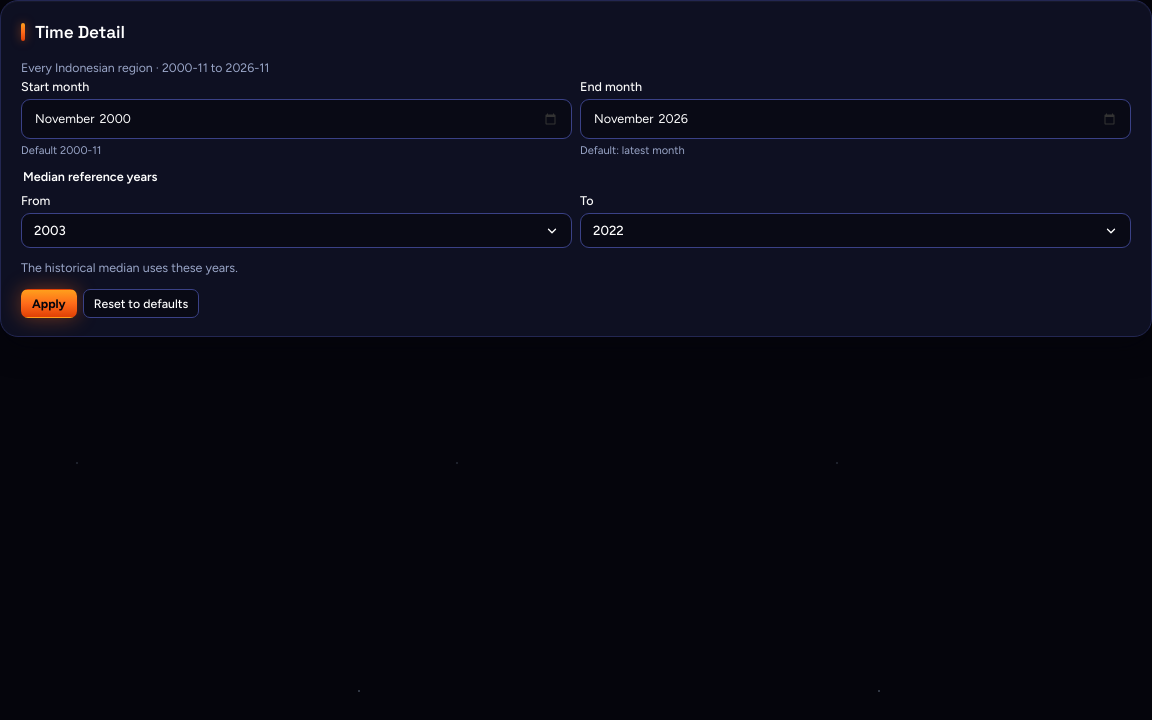
Scenario: TimePanel › rejects an invalid range with a clear message
This screenshot has width=1152, height=720.
Replace the text in the field labelled "Start month" with "1998-05" at (296, 119), box x1=21 y1=99 x2=572 y2=139
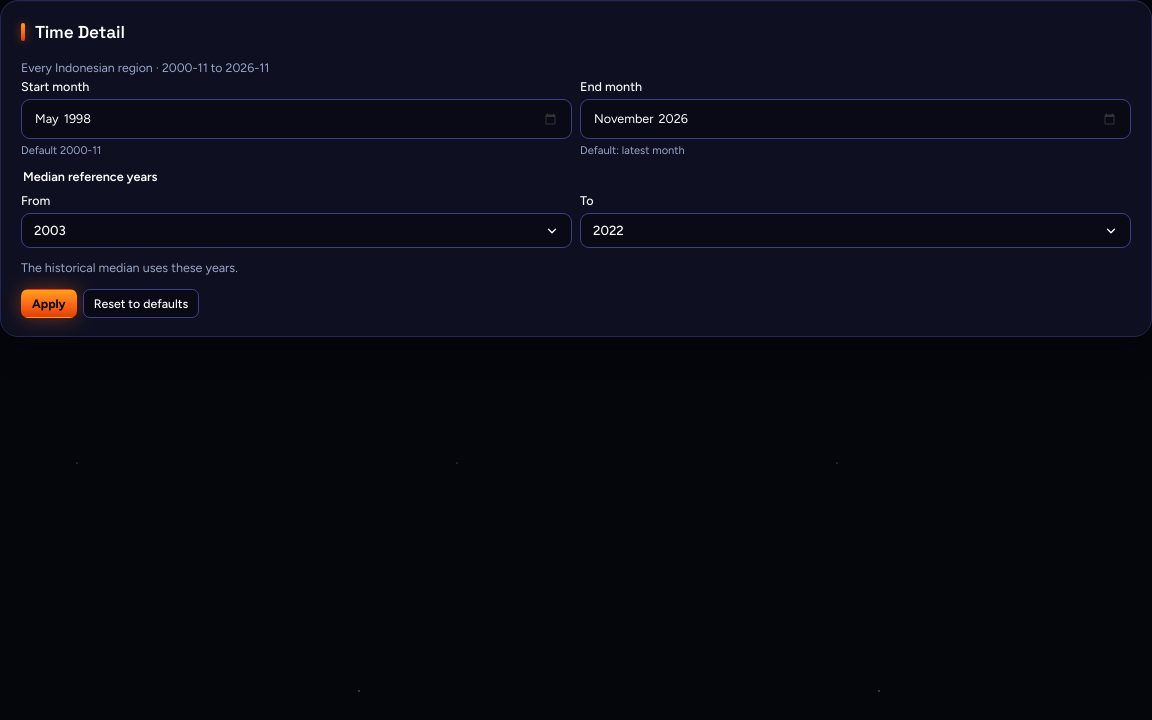
Click the button "Apply" at (49, 304), box x1=21 y1=289 x2=77 y2=318
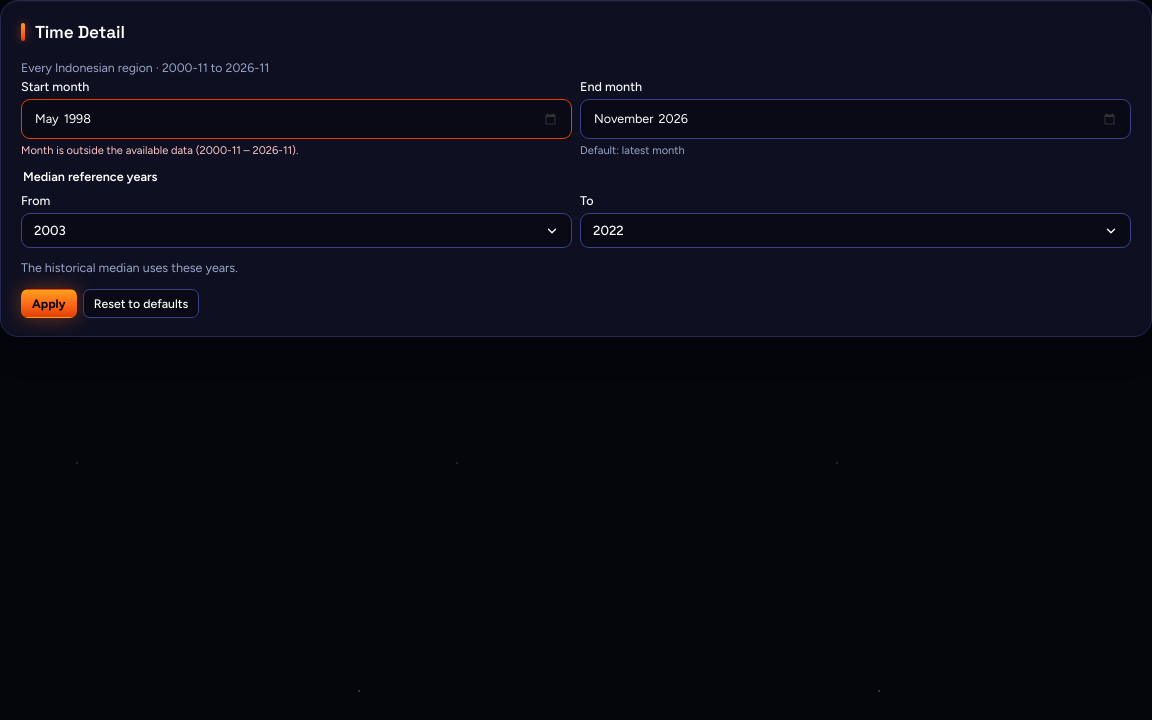
Expected: the text "Month is outside the available data (2000-11 – 2026-11)." is shown, x1=21 y1=143 x2=298 y2=157
